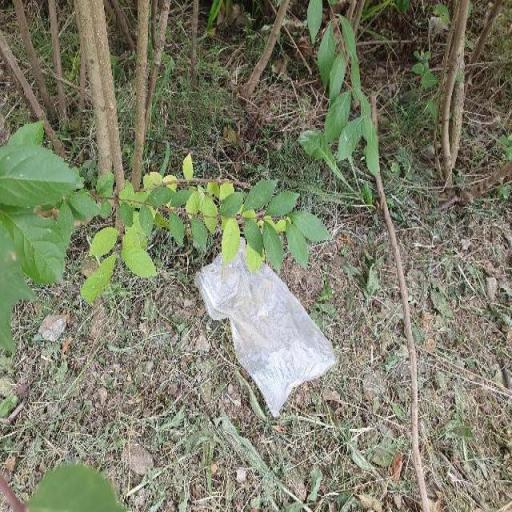plastic-bag: (192, 245, 338, 420)
